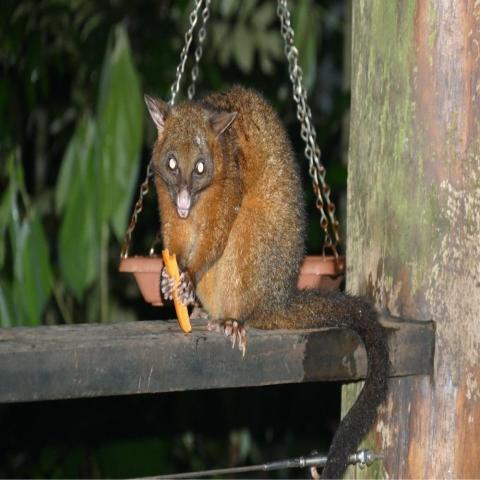small_animal: (142, 83, 396, 480)
